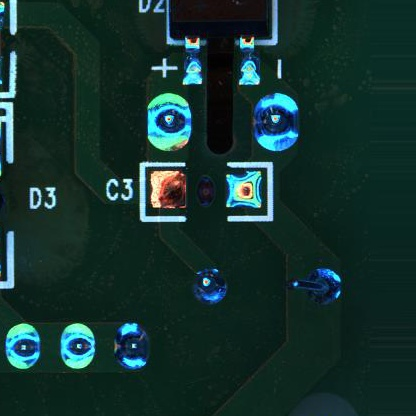spot: (252, 93, 300, 152), (147, 92, 192, 151), (290, 266, 343, 305), (6, 321, 42, 374), (114, 321, 151, 372), (60, 322, 96, 372), (190, 267, 229, 307)
